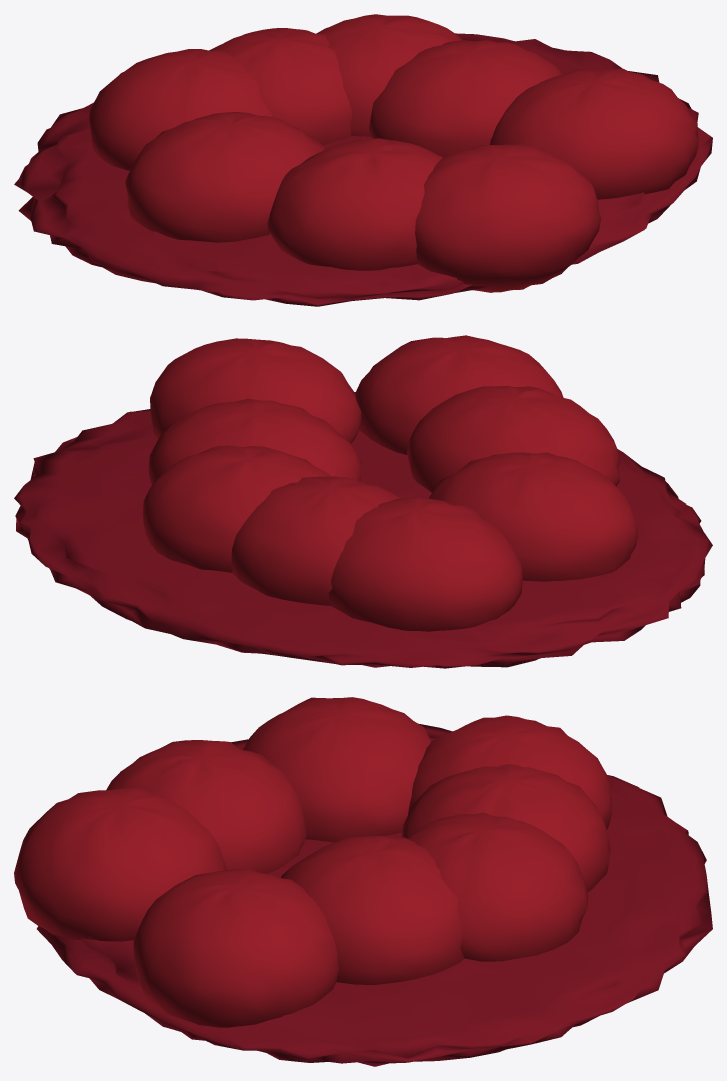
Rendered from sweet-cherry-compote.glb.
3 renders of one model, top to bottom at view 1: azimuth 30°, elevation 25°; view 2: azimuth 150°, elevation 25°; view 3: azimuth 270°, elevation 25°, orthographic. The views are drawn at different scales.
Visible parts, largest first — view 1: Cherry compote pool, Cooked cherry.002, Cooked cherry.004, Cooked cherry.005, Cooked cherry.007, Cooked cherry, Cooked cherry.001, Cooked cherry.006, Cooked cherry.003; view 2: Cherry compote pool, Cooked cherry.001, Cooked cherry.004, Cooked cherry.007, Cooked cherry.003, Cooked cherry.006, Cooked cherry.005, Cooked cherry.002, Cooked cherry; view 3: Cherry compote pool, Cooked cherry.005, Cooked cherry.002, Cooked cherry, Cooked cherry.004, Cooked cherry.003, Cooked cherry.007, Cooked cherry.006, Cooked cherry.001.
Part boxes in pixels (x1,y1,x2,y2): Cherry compote pool: (14, 33, 712, 306); Cooked cherry.002: (415, 144, 601, 292); Cooked cherry.004: (125, 112, 324, 242); Cooked cherry.005: (489, 68, 698, 199); Cooked cherry.007: (267, 138, 443, 270); Cooked cherry: (369, 40, 562, 157); Cooked cherry.001: (89, 49, 272, 170); Cooked cherry.006: (209, 28, 351, 145); Cooked cherry.003: (316, 14, 462, 136); Cherry compote pool: (14, 392, 712, 668); Cooked cherry.001: (328, 497, 522, 631); Cooked cherry.004: (429, 452, 638, 581); Cooked cherry.007: (407, 385, 620, 492); Cooked cherry.003: (142, 445, 330, 572); Cooked cherry.006: (231, 476, 400, 605); Cooked cherry.005: (150, 338, 361, 443); Cooked cherry.002: (355, 335, 563, 454); Cooked cherry: (148, 398, 361, 485); Cherry compote pool: (37, 723, 712, 1066); Cooked cherry.005: (133, 869, 339, 1027); Cooked cherry.002: (14, 787, 226, 941); Cooked cherry: (281, 836, 464, 984); Cooked cherry.004: (243, 697, 431, 842); Cooked cherry.003: (407, 812, 588, 961); Cooked cherry.007: (106, 740, 306, 873); Cooked cherry.006: (402, 764, 610, 892); Cooked cherry.001: (408, 715, 612, 829).
Bounding box in the file's own units: 1.07 × 0.2042 × 0.931.
